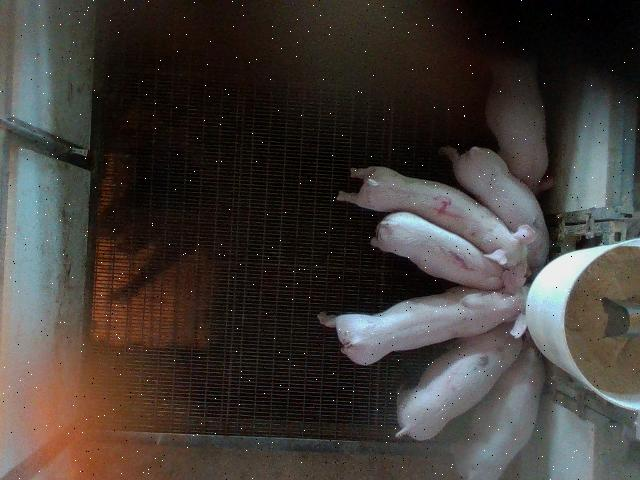pig-1: (371, 212, 504, 290)
pig-4: (338, 166, 532, 267)
